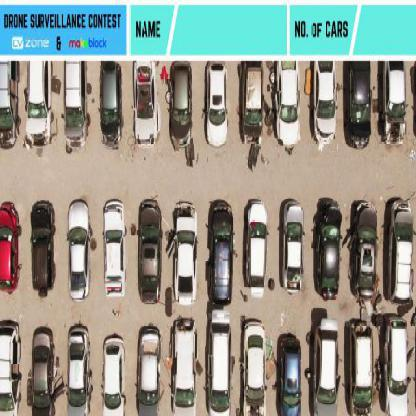car: (347, 199, 379, 313), (174, 203, 200, 305), (390, 200, 414, 310), (207, 203, 233, 303), (137, 199, 161, 306), (169, 61, 195, 156), (316, 199, 340, 301), (241, 61, 264, 167), (30, 200, 56, 293), (68, 203, 92, 302), (204, 320, 230, 409), (103, 200, 125, 300), (172, 319, 196, 410), (0, 201, 23, 291), (31, 328, 55, 414), (100, 61, 123, 149), (246, 201, 268, 293), (348, 65, 372, 149), (65, 61, 87, 152), (284, 202, 305, 293), (317, 317, 338, 408), (0, 322, 21, 412), (277, 334, 301, 412), (135, 64, 157, 148), (138, 325, 160, 409), (315, 62, 337, 144), (70, 326, 92, 408), (242, 333, 264, 415), (102, 334, 125, 412), (385, 66, 407, 144), (206, 64, 226, 146), (280, 62, 298, 136)
